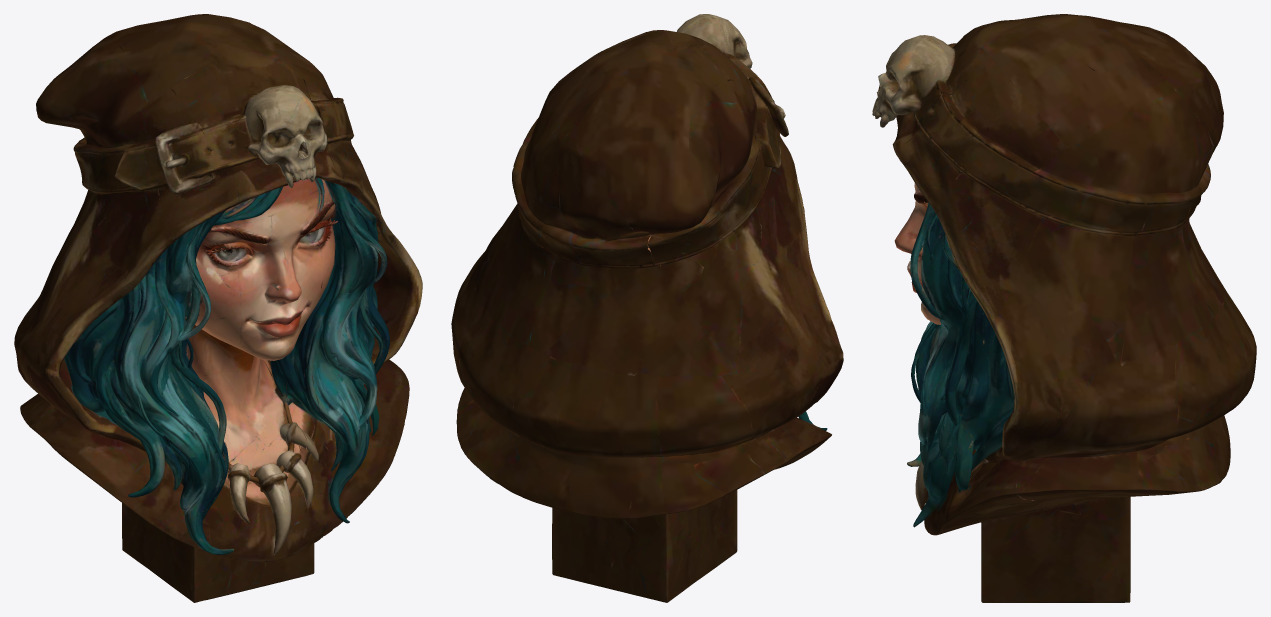
Rendered from riot.glb.
3 renders of one model, left to right at view 1: azimuth 30°, elevation 25°; view 2: azimuth 150°, elevation 25°; view 3: azimuth 270°, elevation 25°, orthographic. The views are drawn at different scales.
Size of the model in its own units: 1.39 by 1.9 by 1.21.
1 material, 1 textured.
